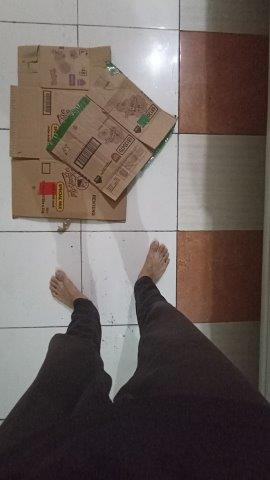kardus: (12, 47, 175, 218)
